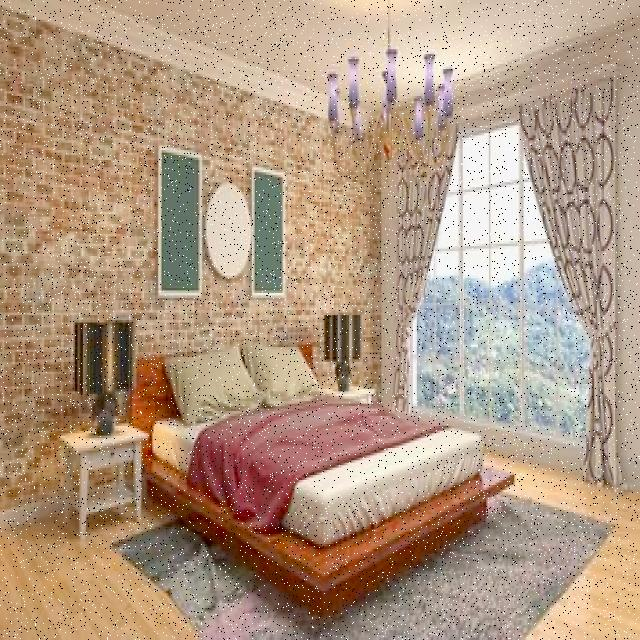bed: (134, 339, 504, 554)
